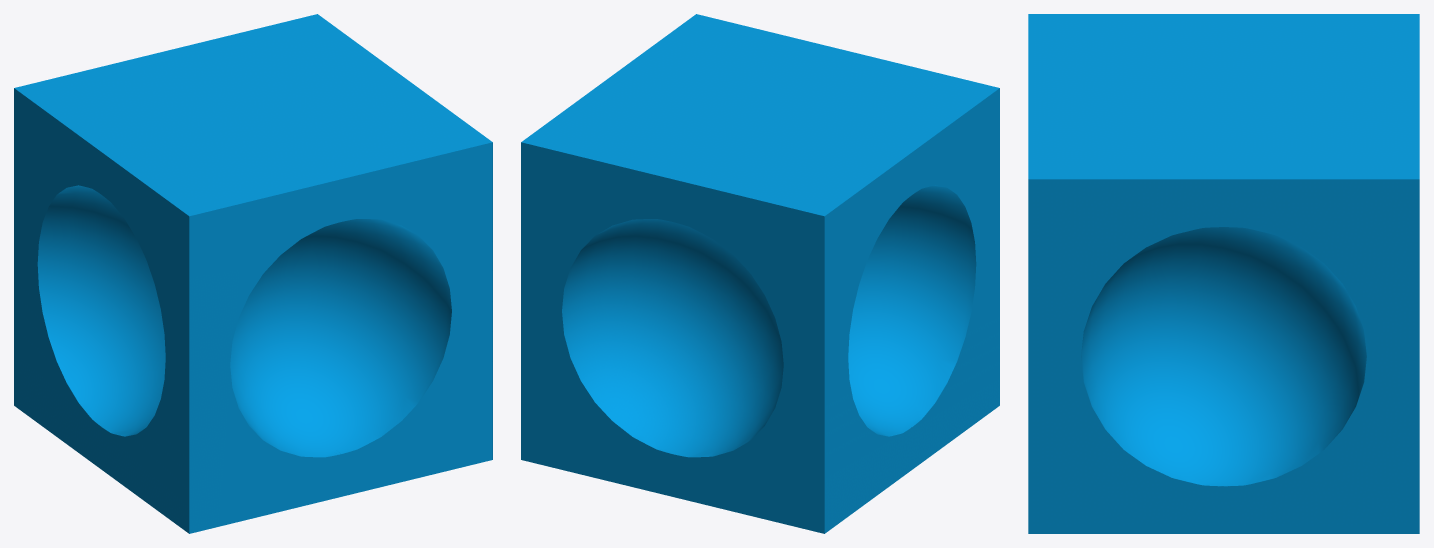
3 views of the same model, side by side, from view 1: azimuth 30°, elevation 25°; view 2: azimuth 150°, elevation 25°; view 3: azimuth 270°, elevation 25° (orthographic). The views are drawn at different scales.
Parts seen in each view (by area): view 1: Dragon Box; view 2: Dragon Box; view 3: Dragon Box.
Part boxes in pixels (x1=…): Dragon Box: x1=14, y1=14, x2=492, y2=533; Dragon Box: x1=521, y1=14, x2=999, y2=533; Dragon Box: x1=1028, y1=14, x2=1419, y2=533.
Bounding box in the file's own units: 254 × 254 × 254.
